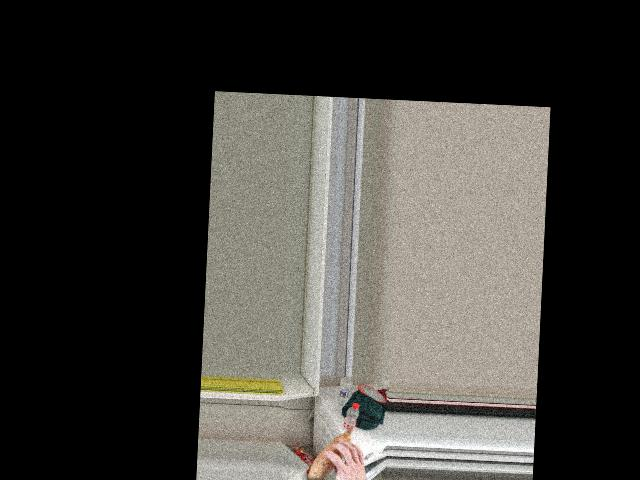sweet_potato: (310, 430, 362, 474)
